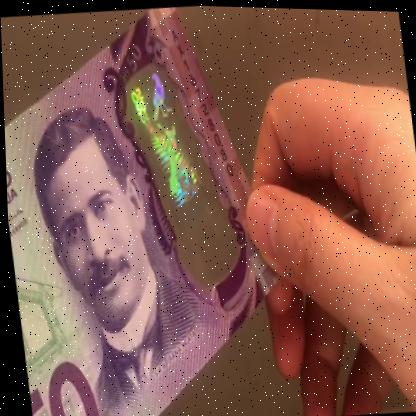50F: (126, 65, 223, 274)
